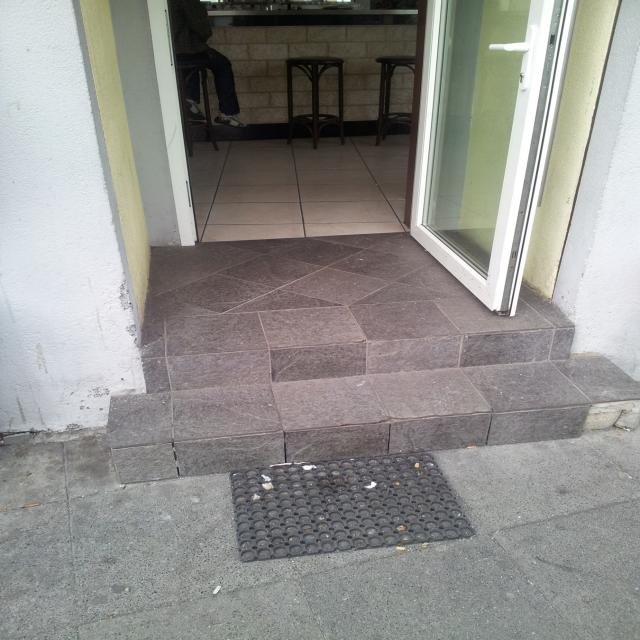AVOID: (93, 325, 640, 485)
